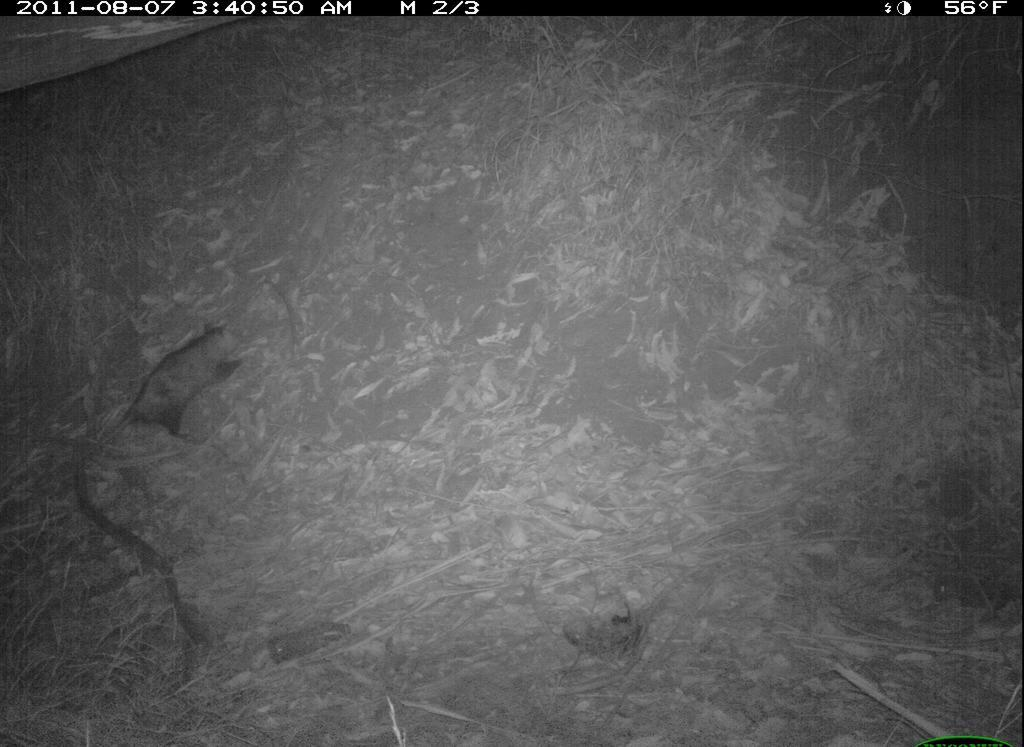opossum: (82, 313, 273, 460)
